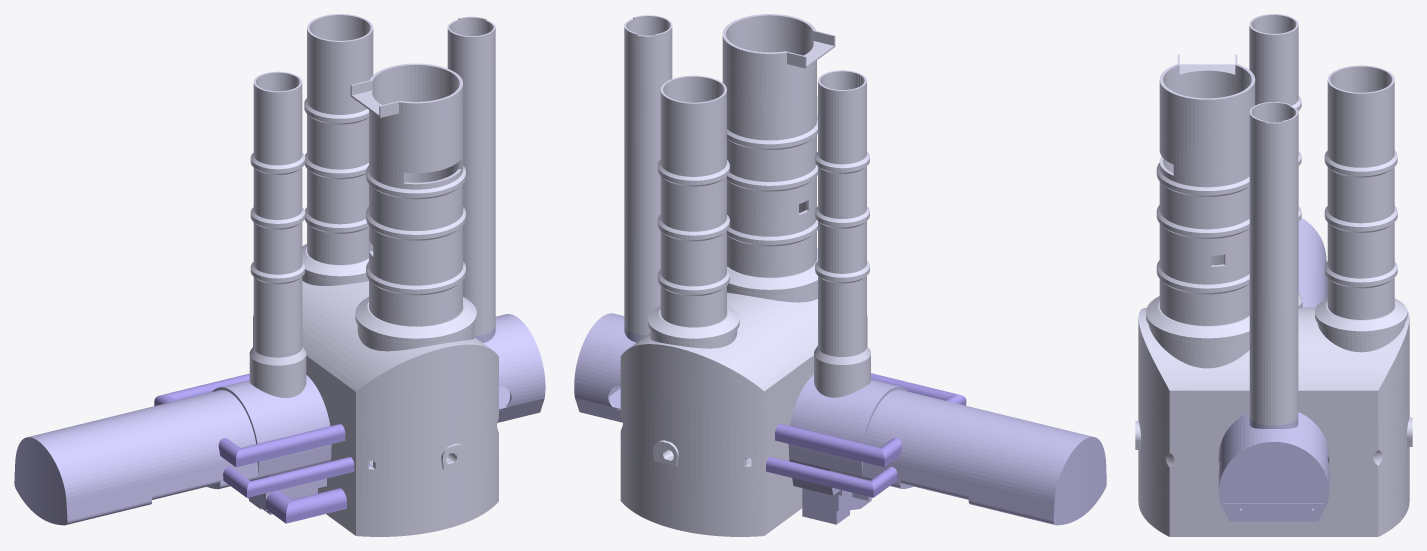
The model's file is vr-cavern.glb.
3 renders of one model, left to right at view 1: azimuth 30°, elevation 25°; view 2: azimuth 150°, elevation 25°; view 3: azimuth 270°, elevation 25°, orthographic.
Visible parts, largest first — view 1: S_Mesh_0, S_Mesh_0-012, S_Mesh_0-001; view 2: S_Mesh_0, S_Mesh_0-012, S_Mesh_0-001; view 3: S_Mesh_0, S_Mesh_0-012.
Boxes of the visible parts, x1,y1,x2,y2 form: S_Mesh_0: (249,14,498,536); S_Mesh_0-012: (14,314,545,525); S_Mesh_0-001: (154,373,354,523); S_Mesh_0: (620,14,870,536); S_Mesh_0-012: (574,313,1106,525); S_Mesh_0-001: (766,373,966,497); S_Mesh_0: (1135,14,1412,536); S_Mesh_0-012: (1218,218,1329,521).
Size of the model in its own units: 114 by 99.65 by 56.3.
